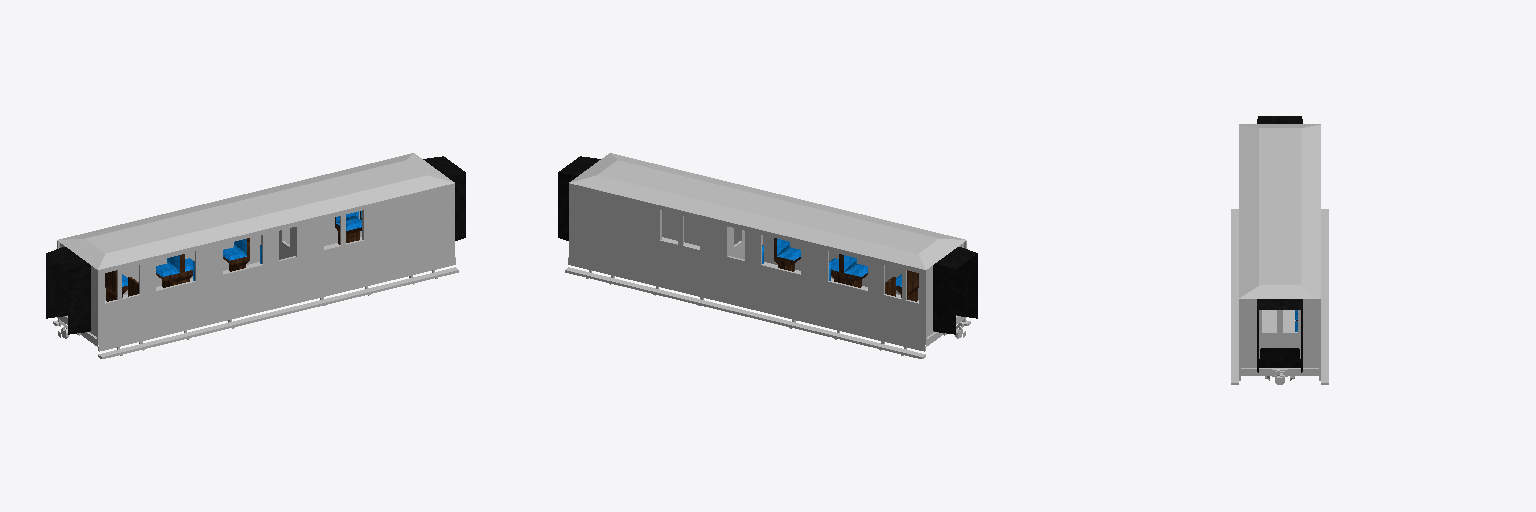
3 views of the same model, side by side, from view 1: azimuth 30°, elevation 25°; view 2: azimuth 150°, elevation 25°; view 3: azimuth 270°, elevation 25° (orthographic).
Visible parts, largest first — view 1: SHELL_WOOD_ext, SHELL_WOOD_roof, corridor_front, FRAME, SHELL_WOOD_int, corridor_rear, DOOR_12_EXTERNAL, DOOR_8_EXTERNAL, DOOR_14_EXTERNAL, DOOR_6_EXTERNAL, bench.003, bench.005; view 2: SHELL_WOOD_ext, SHELL_WOOD_roof, corridor_front, FRAME, SHELL_WOOD_int, corridor_rear, DOOR_11_EXTERNAL, DOOR_7_EXTERNAL, DOOR_13_EXTERNAL, DOOR_5_EXTERNAL, bench.002, bench.004; view 3: SHELL_WOOD_roof, SHELL_WOOD_ext, COUPLED_REAR_4, corridor_rear, SHELL_WOOD_int.
Part boxes in pixels (left/top/right/bottom): SHELL_WOOD_ext: left=53, top=183, right=458, bottom=358; SHELL_WOOD_roof: left=57, top=153, right=454, bottom=269; corridor_front: left=46, top=247, right=90, bottom=334; FRAME: left=58, top=257, right=455, bottom=351; SHELL_WOOD_int: left=105, top=211, right=361, bottom=303; corridor_rear: left=423, top=156, right=465, bottom=240; DOOR_12_EXTERNAL: left=321, top=213, right=343, bottom=280; DOOR_8_EXTERNAL: left=120, top=262, right=142, bottom=329; DOOR_14_EXTERNAL: left=344, top=207, right=365, bottom=275; DOOR_6_EXTERNAL: left=277, top=224, right=298, bottom=291; bench.003: left=156, top=254, right=192, bottom=287; bench.005: left=223, top=238, right=249, bottom=271; SHELL_WOOD_ext: left=565, top=183, right=970, bottom=358; SHELL_WOOD_roof: left=569, top=153, right=966, bottom=269; corridor_front: left=933, top=247, right=977, bottom=334; FRAME: left=568, top=257, right=965, bottom=351; SHELL_WOOD_int: left=662, top=211, right=918, bottom=303; corridor_rear: left=558, top=156, right=600, bottom=240; DOOR_11_EXTERNAL: left=680, top=213, right=702, bottom=280; DOOR_7_EXTERNAL: left=881, top=262, right=903, bottom=329; DOOR_13_EXTERNAL: left=658, top=207, right=679, bottom=275; DOOR_5_EXTERNAL: left=725, top=224, right=746, bottom=291; bench.002: left=831, top=254, right=867, bottom=287; bench.004: left=774, top=238, right=800, bottom=271; SHELL_WOOD_roof: left=1239, top=124, right=1320, bottom=298; SHELL_WOOD_ext: left=1231, top=209, right=1328, bottom=384; COUPLED_REAR_4: left=1259, top=348, right=1300, bottom=367; corridor_rear: left=1257, top=299, right=1302, bottom=372; SHELL_WOOD_int: left=1262, top=310, right=1295, bottom=331.
Bounding box in the file's own units: 11.12 × 2.62 × 2.38.
Materials: 7 (2 with a texture image).